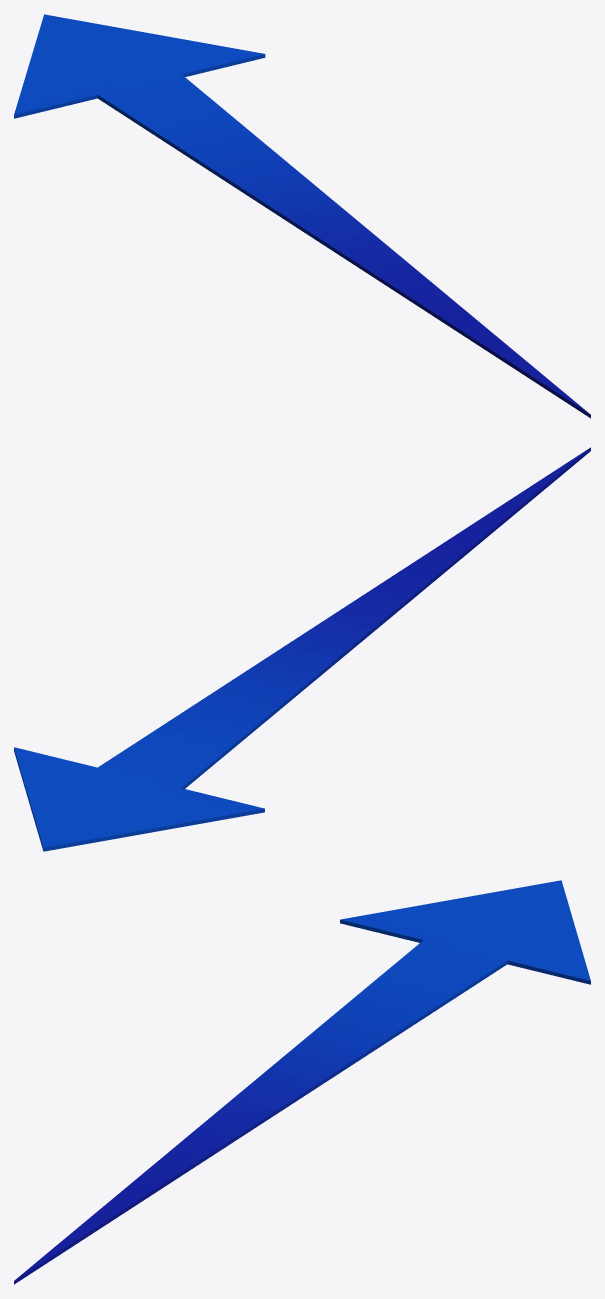
Rendered from arrow.glb.
3 views of the same model, one above another, from view 1: azimuth 30°, elevation 25°; view 2: azimuth 150°, elevation 25°; view 3: azimuth 330°, elevation 25° (orthographic).
Visible parts, largest first — view 1: arrow; view 2: arrow; view 3: arrow.
Boxes of the visible parts, left/top/right/bottom form: arrow: left=14, top=14, right=590, bottom=418; arrow: left=14, top=447, right=590, bottom=851; arrow: left=14, top=880, right=590, bottom=1284.
Size of the model in its own units: 0.7852 by 0.0114 by 2.96.
Materials: 1 (1 with a texture image).
